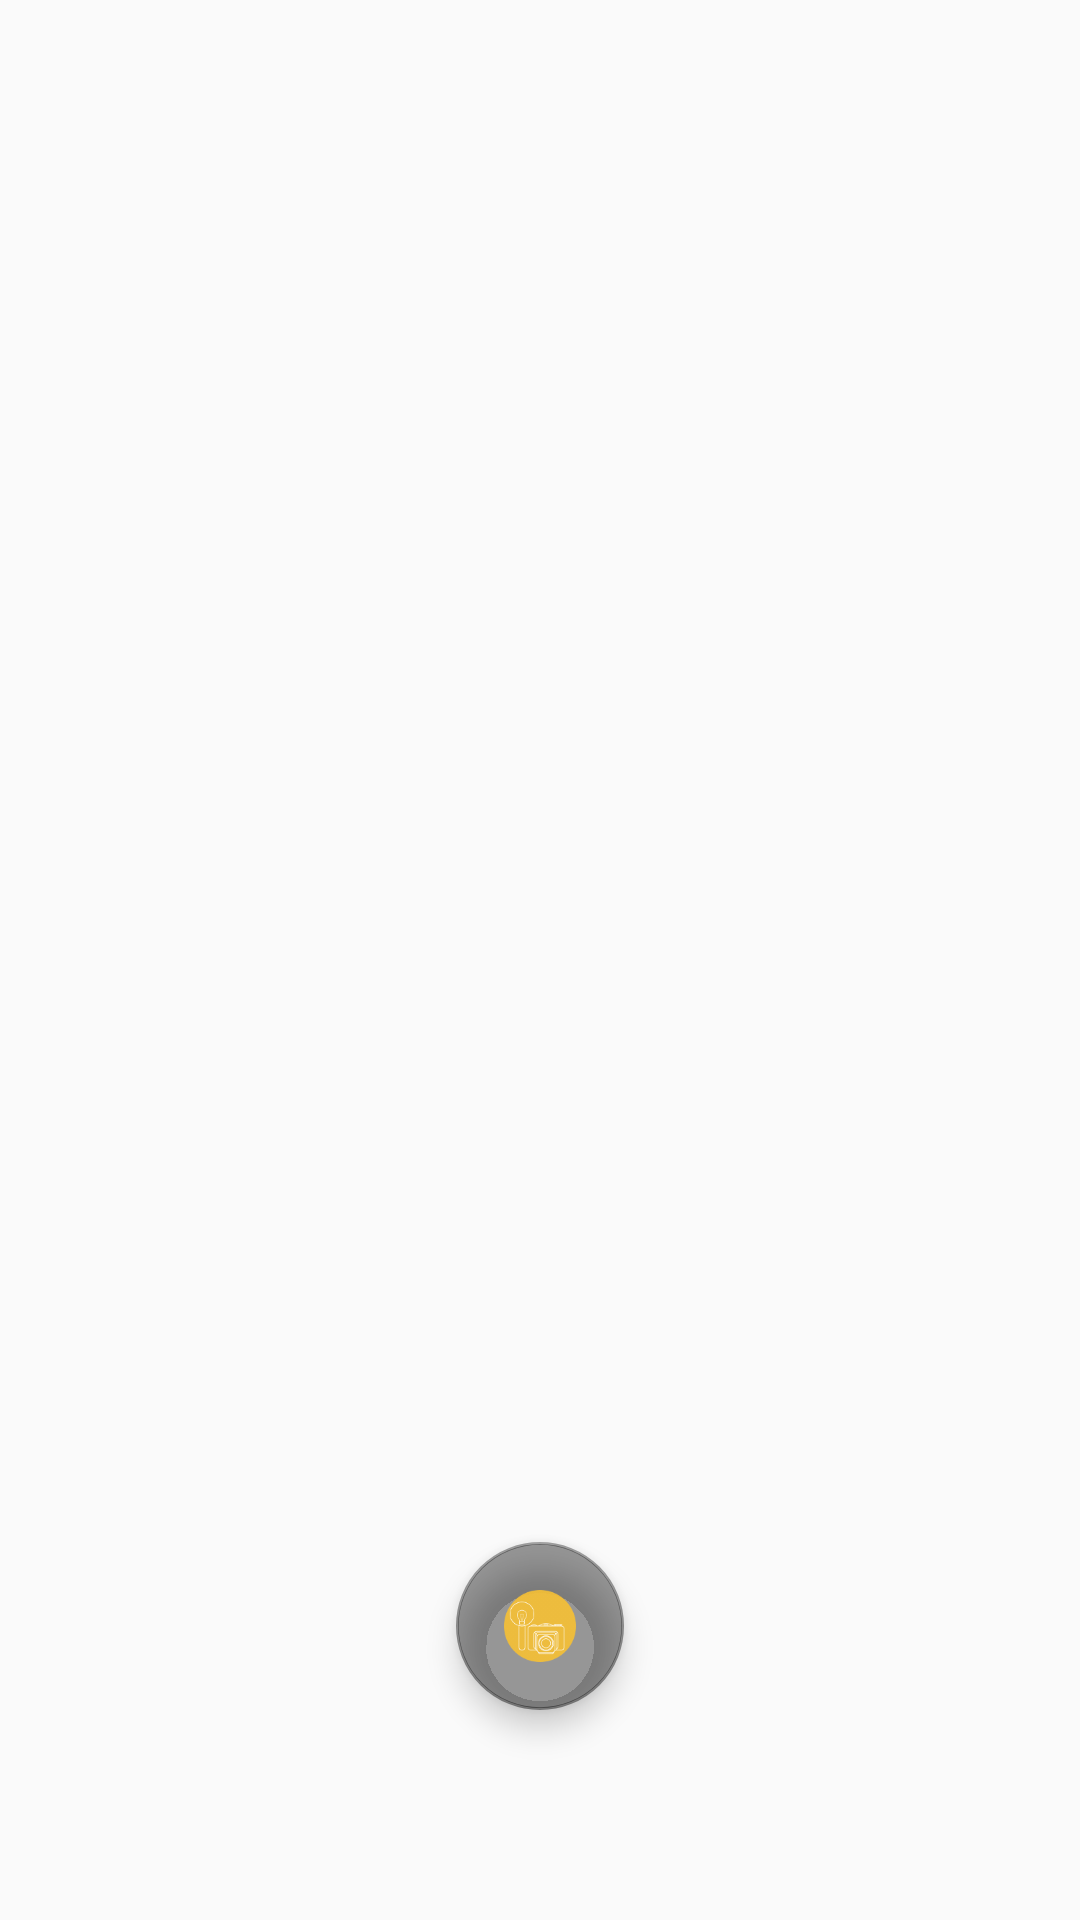

Where icons sit on this 1080 x 1920 app screen, as (x1, y1, x2, y2):
camera: (456, 1542, 624, 1710)
